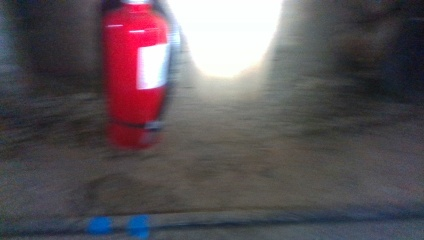fire_extinguisher: (103, 1, 180, 153)
